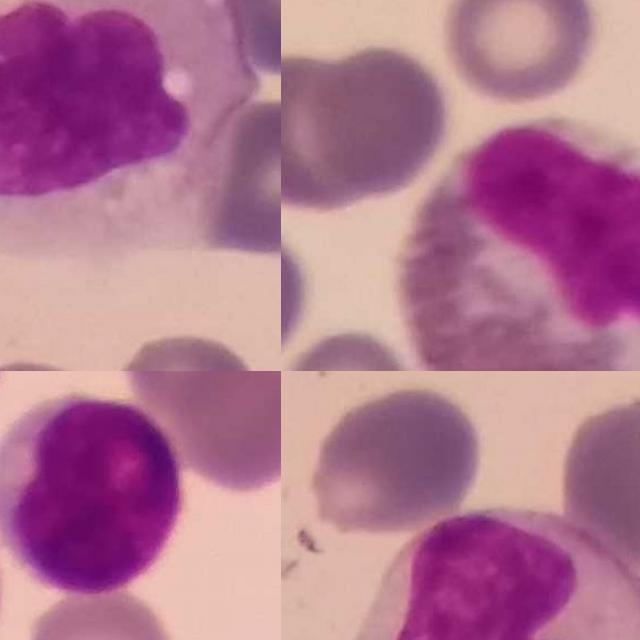Eosinophil: (393, 119, 640, 371)
Lymphocyte: (0, 390, 186, 599)
Monocyte: (0, 0, 256, 268), (358, 506, 640, 640)
